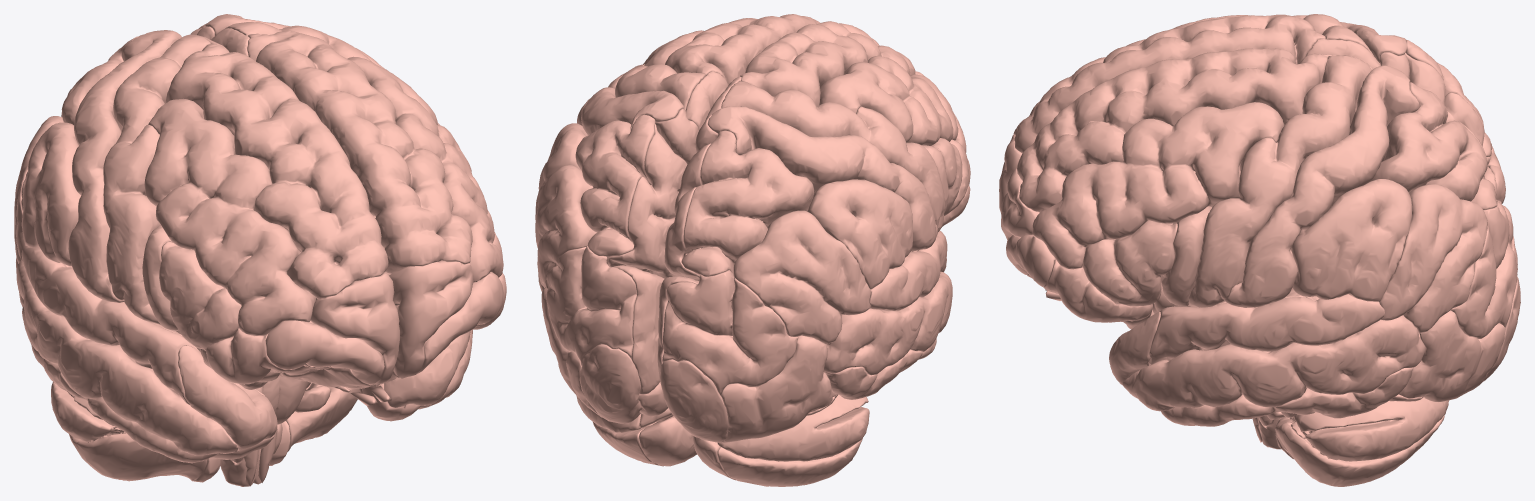
Rendered from brain.glb.
3 renders of one model, left to right at view 1: azimuth 30°, elevation 25°; view 2: azimuth 150°, elevation 25°; view 3: azimuth 270°, elevation 25°, orthographic. The views are drawn at different scales.
Visible parts, largest first — view 1: Allen_olfactory_bulb_L; view 2: Allen_olfactory_bulb_L; view 3: Allen_olfactory_bulb_L.
Part boxes in pixels (bbox=[...]): Allen_olfactory_bulb_L: bbox=[14, 14, 506, 486]; Allen_olfactory_bulb_L: bbox=[535, 14, 970, 486]; Allen_olfactory_bulb_L: bbox=[999, 14, 1520, 486].
Bounding box in the file's own units: 0.1364 × 0.1461 × 0.167.
